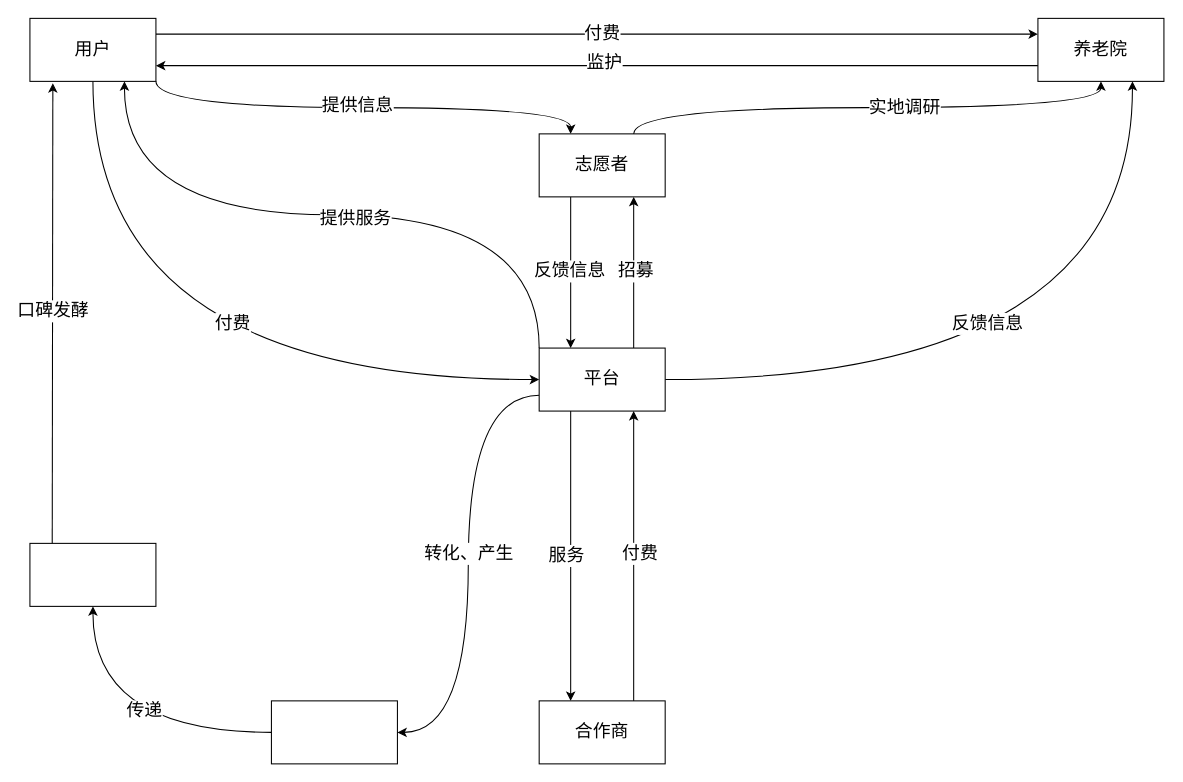
This 1183x782 diagram has some shape labels left out. The centre of each missing label's shape, as x and y in pixels:
"大数据" goes at (333,732).
"网路大众" goes at (92,574).
